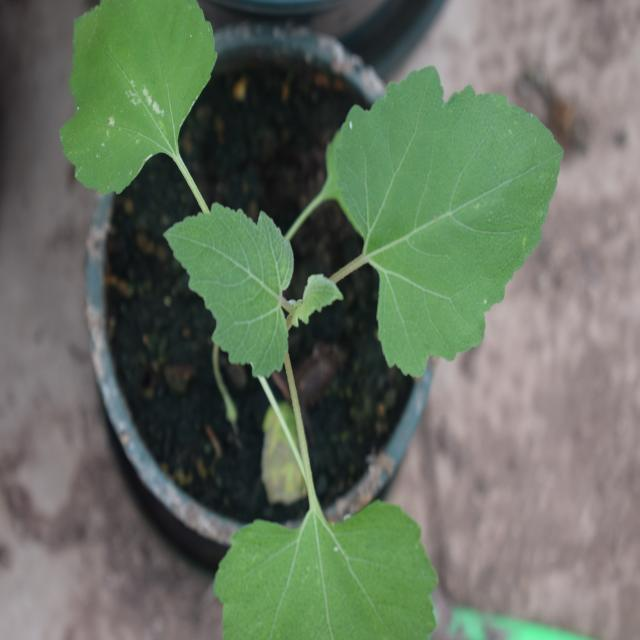cocklebur: (64, 0, 554, 605)
